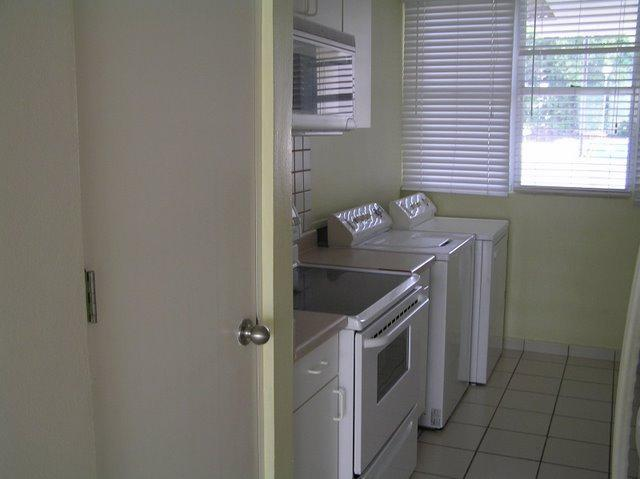Electrodomestico: (330, 199, 472, 419), (397, 195, 516, 381), (353, 268, 425, 471)
Puerta: (75, 3, 265, 473)
Ventana: (406, 7, 634, 198)
